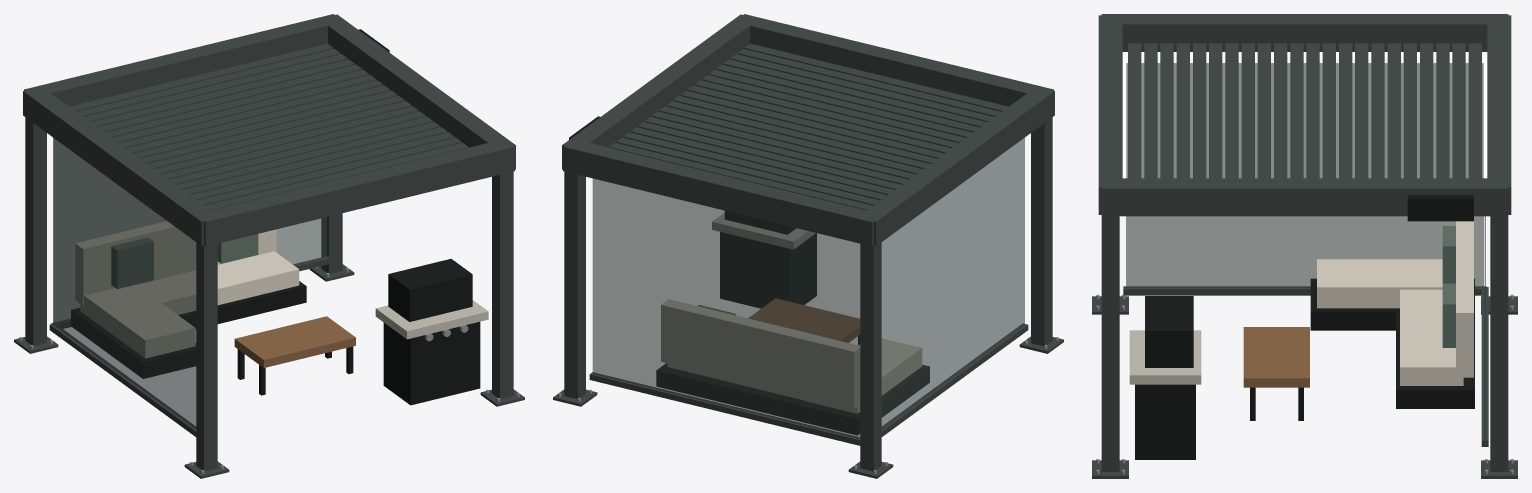
The model's file is coordinatez-axis-10x10-carbon.glb.
3 views of the same model, side by side, from view 1: azimuth 30°, elevation 25°; view 2: azimuth 150°, elevation 25°; view 3: azimuth 270°, elevation 25° (orthographic). The views are drawn at different scales.
Parts seen in each view (by area): view 1: Left motorized wall, Structural post (×4), Front motor beam, Rear motorized wall, Rear drainage beam, Left beam, BBQ cabinet, Right beam, Chaise cushion, Sofa back, Sofa seat, BBQ hood (+27 smaller); view 2: Rear motorized wall, Left motorized wall, Structural post (×3), Sofa back, Rear drainage beam, Front motor beam, Left beam, Right beam, BBQ cabinet, Sofa base, Coffee table top, Rear wall bottom rail (+26 smaller); view 3: Left motorized wall, Right beam, Left beam, Structural post (×2), Chaise cushion, Sofa seat, BBQ cabinet, Front motor beam, Rear drainage beam, Coffee table top, BBQ hood, Sofa back (+33 smaller).
Boxes of the visible parts, x1,y1,x2,y2 form: Left motorized wall: [53, 138, 196, 429]; Structural post (×4): [25, 117, 513, 471]; Front motor beam: [195, 139, 514, 246]; Rear motorized wall: [54, 139, 326, 323]; Rear drainage beam: [24, 14, 343, 106]; Left beam: [23, 90, 219, 245]; BBQ cabinet: [383, 321, 480, 405]; Right beam: [321, 14, 515, 169]; Chaise cushion: [80, 285, 195, 358]; Sofa back: [75, 221, 276, 305]; Sofa seat: [137, 251, 299, 314]; BBQ hood: [388, 258, 472, 321]; Rear motorized wall: [592, 178, 860, 438]; Left motorized wall: [881, 138, 1024, 429]; Structural post (×3): [564, 117, 1052, 471]; Sofa back: [661, 299, 859, 408]; Rear drainage beam: [563, 139, 882, 246]; Front motor beam: [734, 14, 1053, 106]; Left beam: [860, 90, 1054, 245]; Right beam: [562, 14, 757, 169]; BBQ cabinet: [720, 232, 816, 308]; Sofa base: [656, 363, 891, 435]; Coffee table top: [748, 298, 859, 342]; Rear wall bottom rail: [589, 372, 860, 445]; Left motorized wall: [1126, 63, 1483, 287]; Right beam: [1101, 178, 1508, 216]; Left beam: [1101, 14, 1508, 51]; Structural post (×2): [1101, 216, 1508, 471]; Chaise cushion: [1317, 259, 1442, 308]; Sofa seat: [1400, 289, 1463, 385]; BBQ cabinet: [1135, 384, 1195, 459]; Front motor beam: [1098, 15, 1122, 214]; Rear drainage beam: [1487, 15, 1511, 214]; Coffee table top: [1243, 327, 1309, 387]; BBQ hood: [1145, 296, 1193, 367]; Sofa back: [1456, 221, 1473, 377].
Size of the model in its own units: 3.37 by 2.49 by 3.34.
